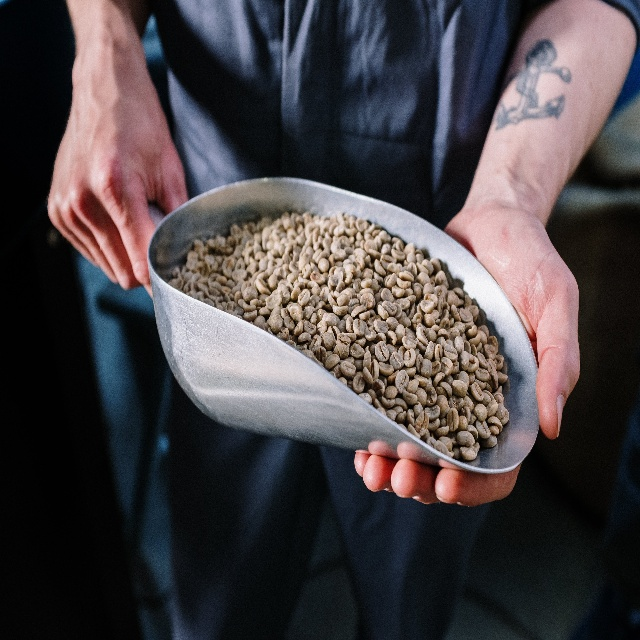Sin_guantes: (353, 177, 580, 508), (43, 48, 194, 302)
